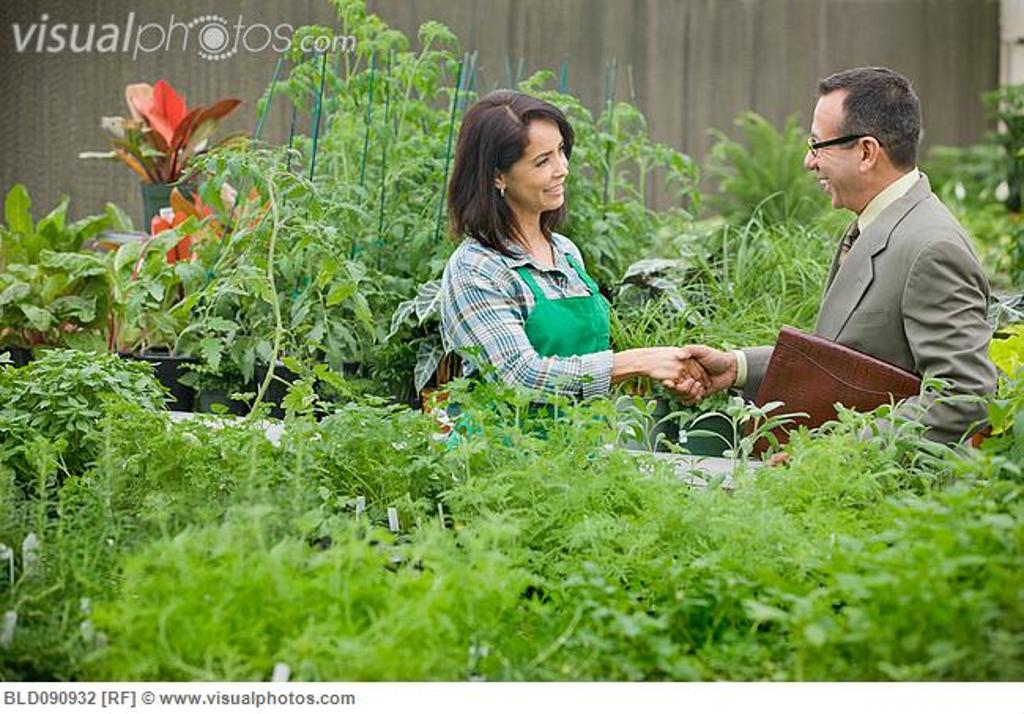face: (804, 90, 856, 212), (506, 120, 568, 208)
